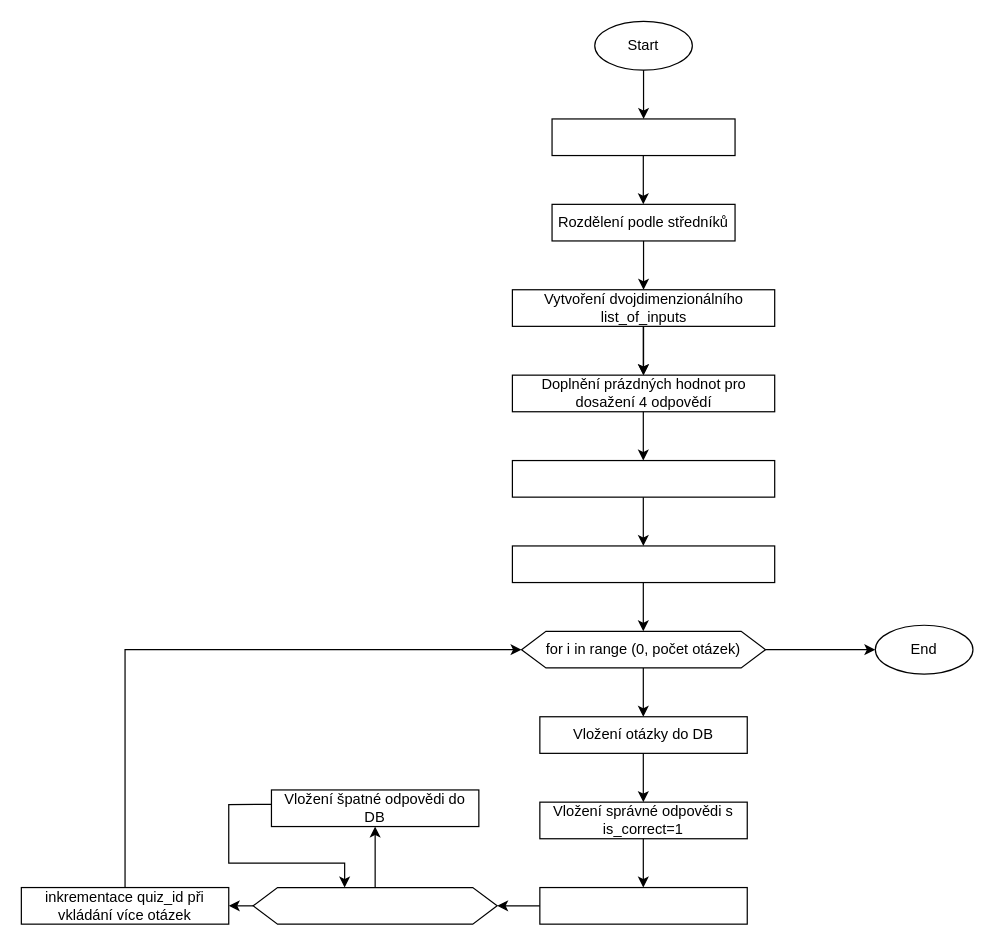
Image size: 994x946. Some labels were removed from this diagram. The shapes that lost their labels are listed below. From the top down, each one's box as (x1, y1, x2, y2) in pixels, then its label:
(551, 118, 735, 156): Získání dat z formuláře
(511, 459, 775, 497): Získání category_id z DB
(511, 545, 775, 583): Získání maximálního ID kvízu (ID vloženého kvízu je o 1 vyšší)
(252, 886, 497, 924): for i in range (2, 5 )
(539, 886, 747, 924): is_correct=0
